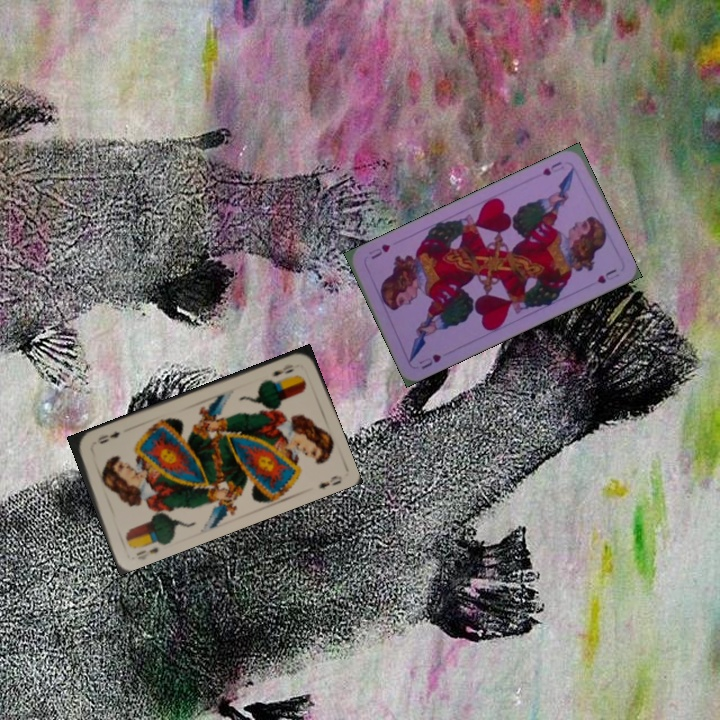EO: (132, 543, 161, 562), (269, 360, 297, 379)
HU: (415, 350, 443, 372), (539, 157, 564, 178)
